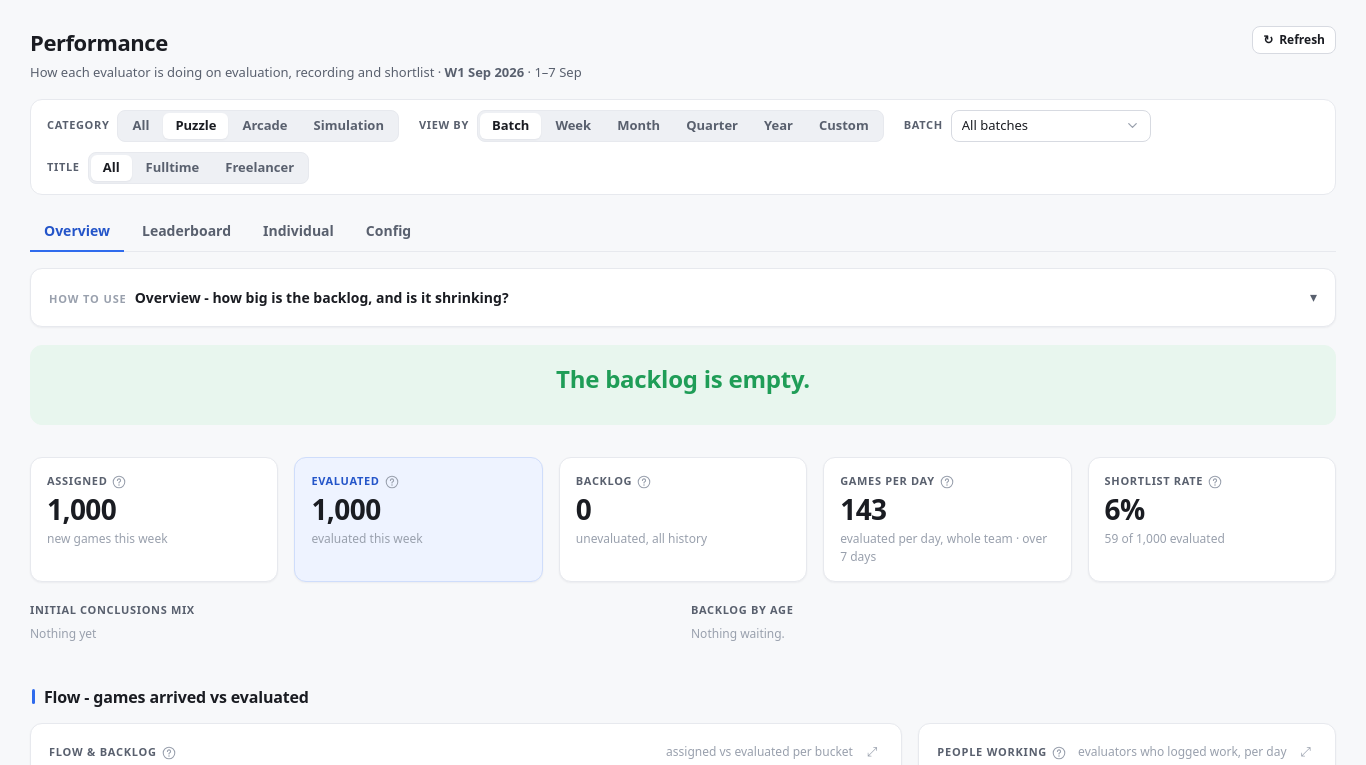
Test: Config tab: sections, live rules, one save bar › weights four axes - Recording is not part of the score
The width and height of the screenshot is (1366, 765).
Click the button "Config". click: point(388, 231)
box: [352,210,425,252]
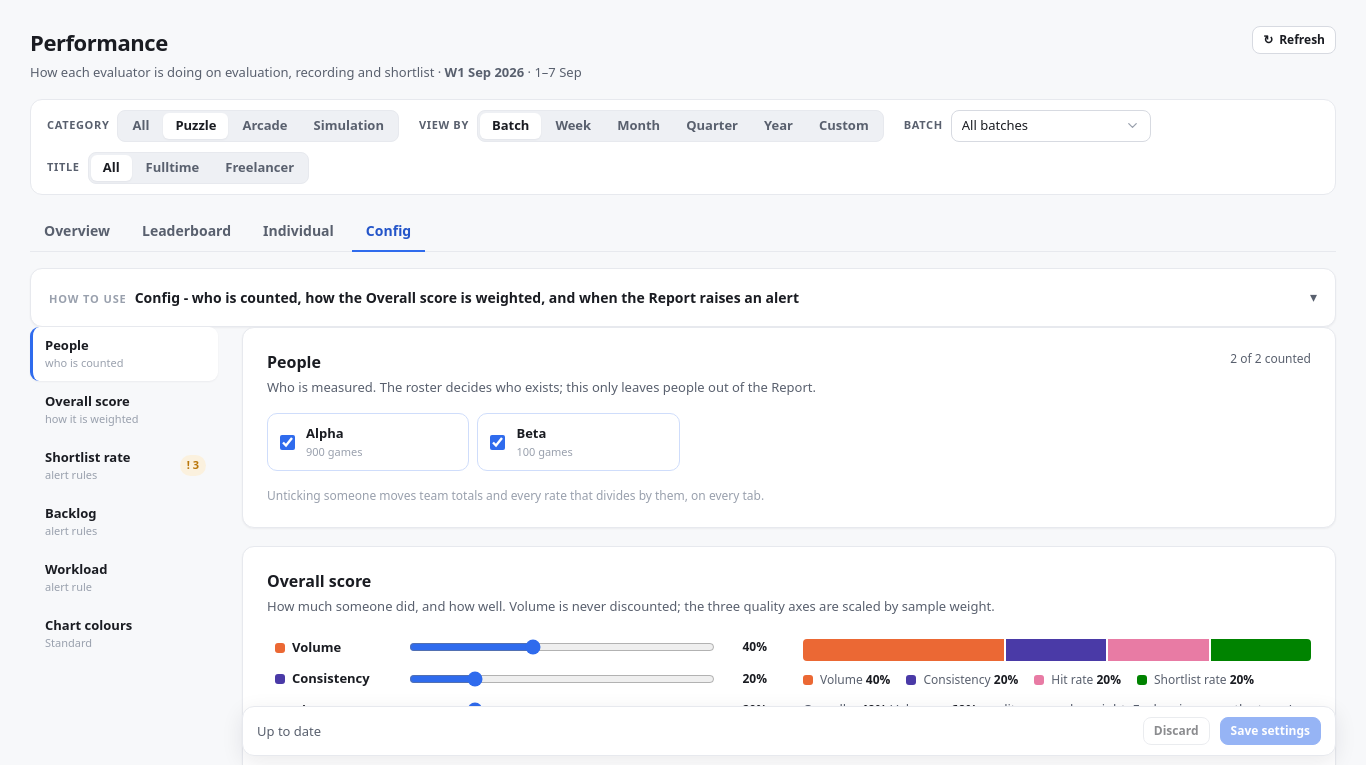
Expected: the element with class "cfg-formula" shows "Recording is not part of the score", [803,700,1298,738]
